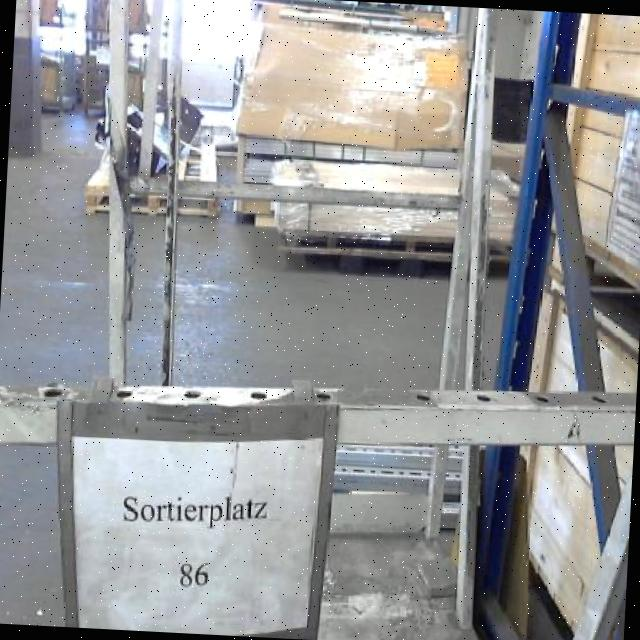pallet: (268, 206, 454, 275)
